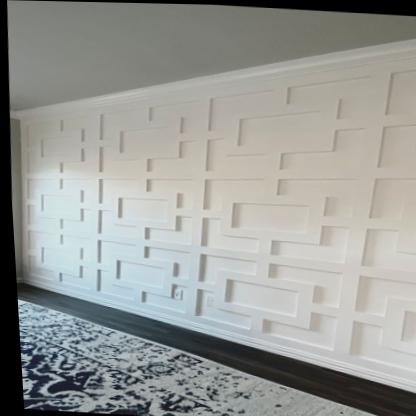Futech tiles: (32, 82, 409, 340)
